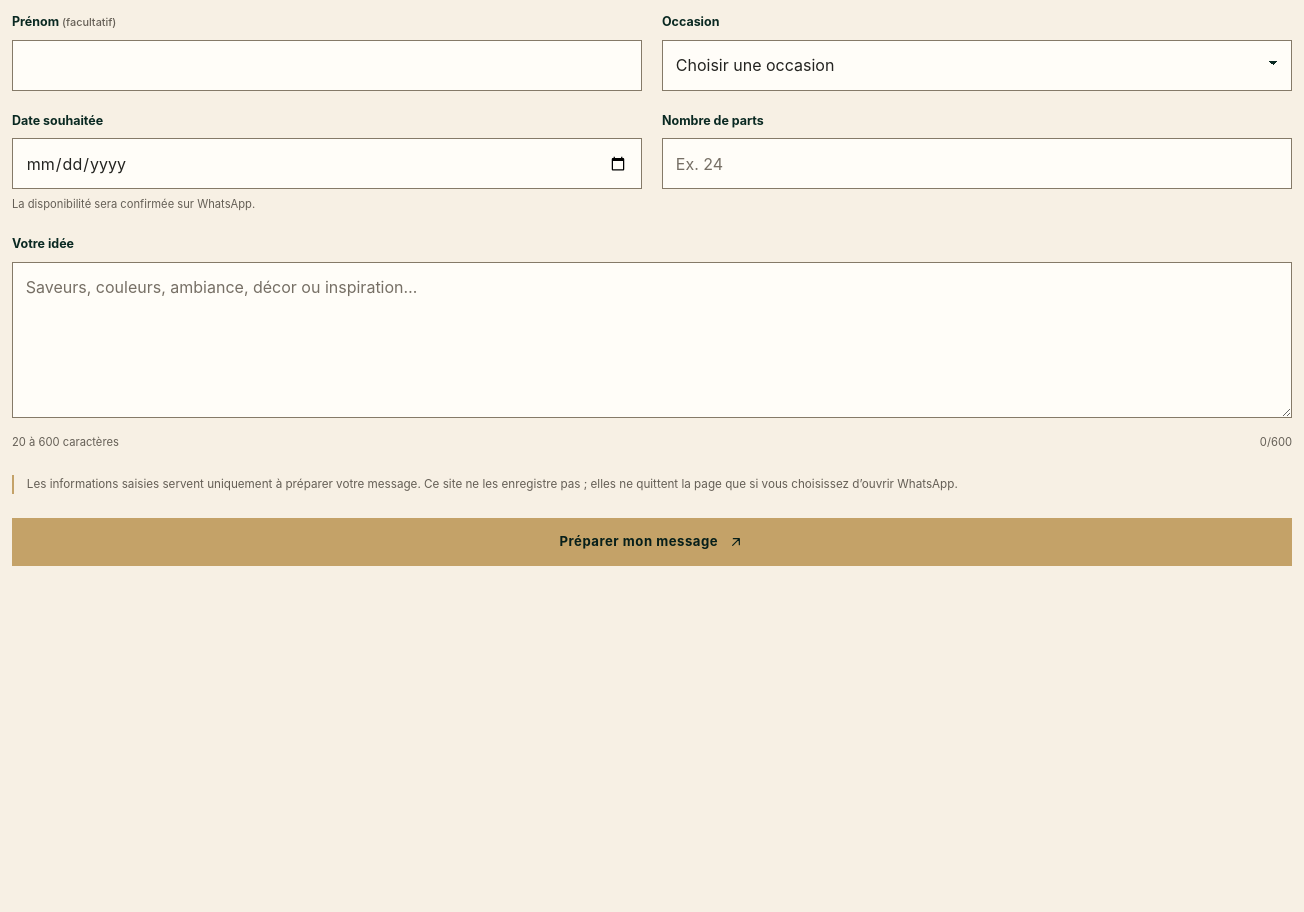
ContactForm › focuses an accessible error summary and links inline errors
Click the button "Préparer mon message": coordinates (652, 542) [12,518,1292,566]
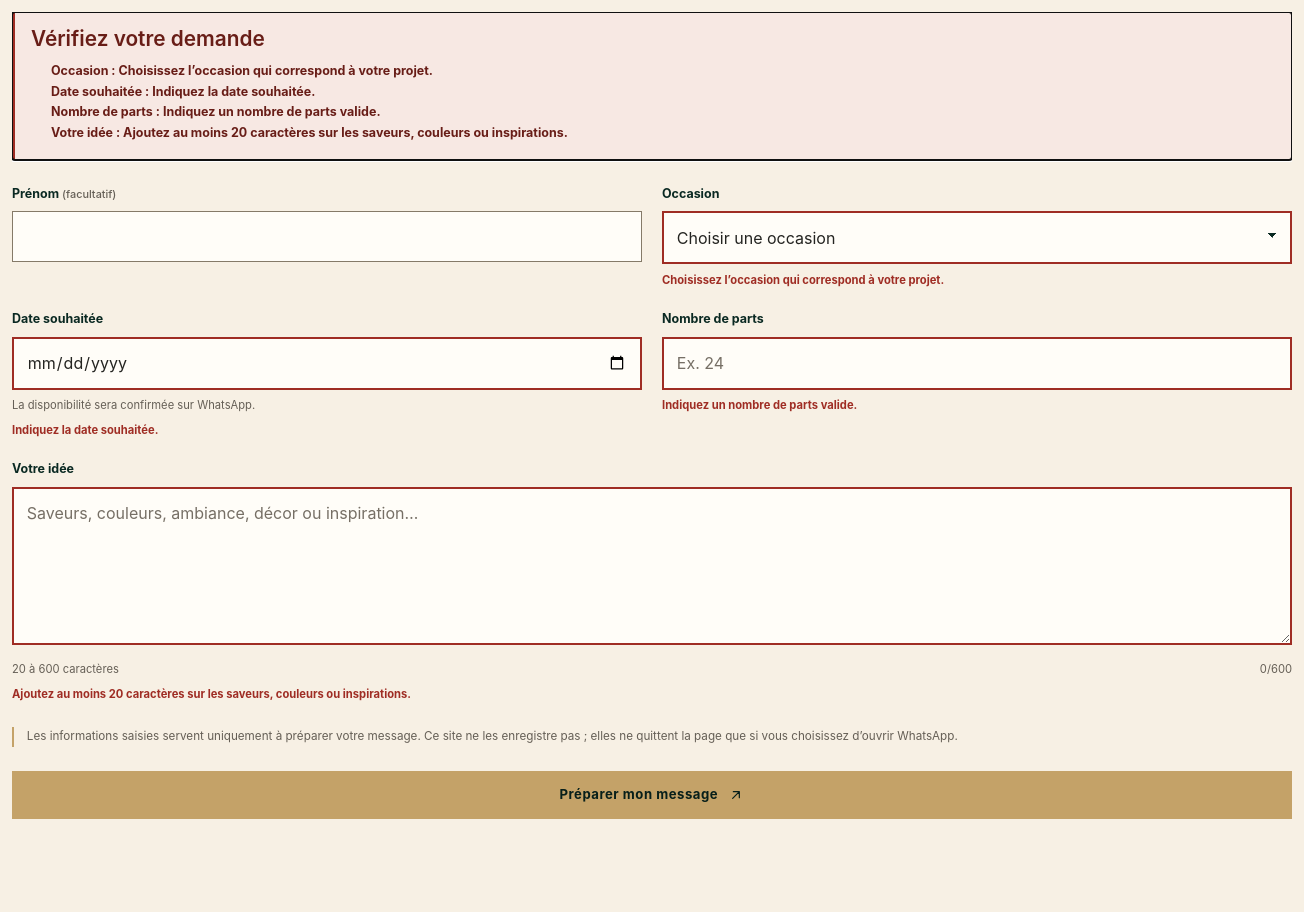
Check: the message shows "Vérifiez votre demande", box [31,26,265,51]
